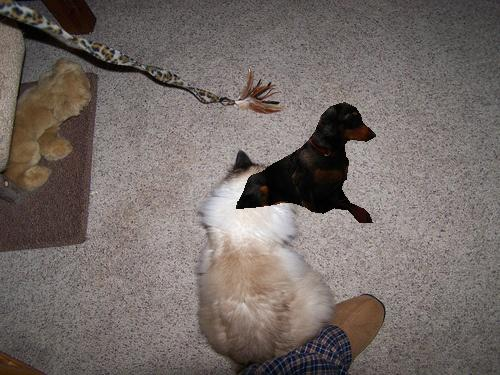tampered: (237, 103, 376, 223)
